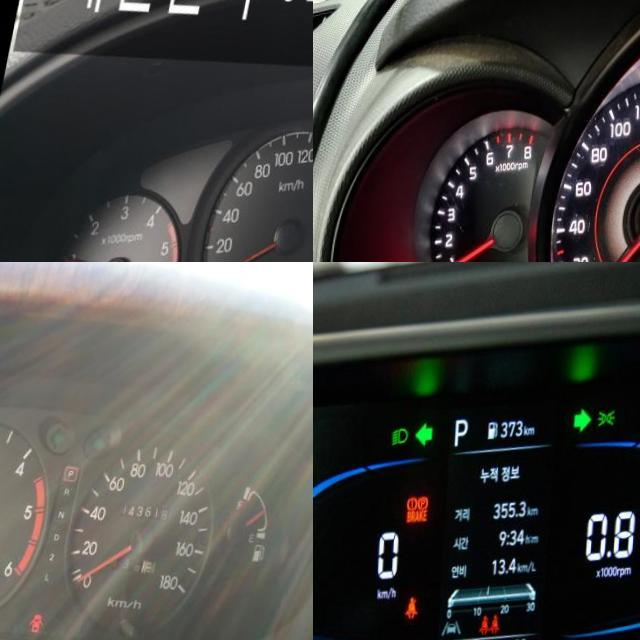Doors: (30, 619, 47, 640)
Low beam: (391, 431, 409, 452)
SideLamp: (597, 419, 616, 439)
